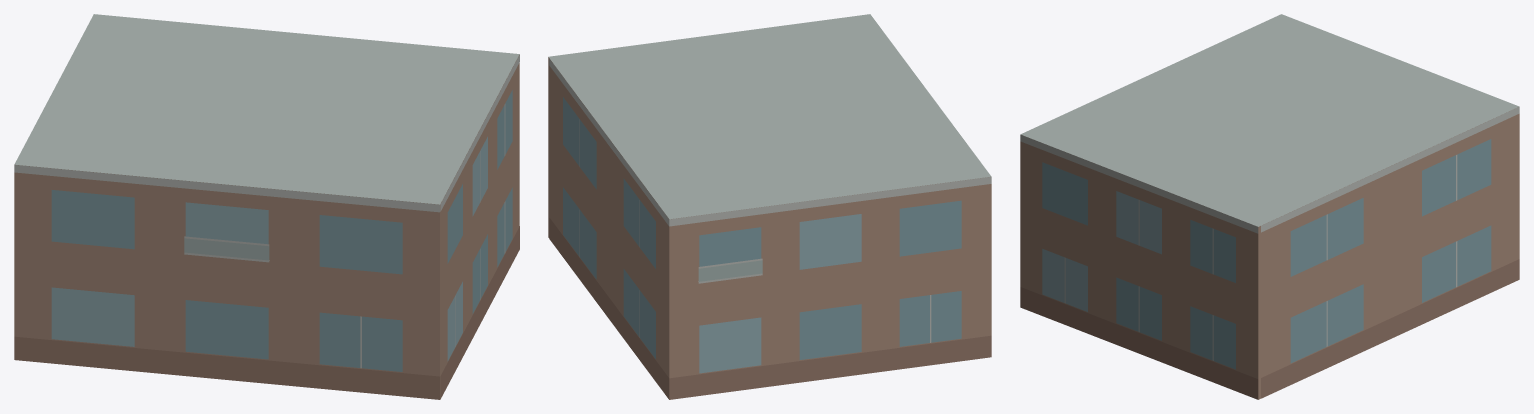
File: survey-upis-32739747.glb
3 views of the same model, side by side, from view 1: azimuth 30°, elevation 25°; view 2: azimuth 150°, elevation 25°; view 3: azimuth 270°, elevation 25° (orthographic). The views are drawn at different scales.
Visible parts, largest first — view 1: survey-upis-32739747.tmp; view 2: survey-upis-32739747.tmp; view 3: survey-upis-32739747.tmp.
Boxes of the visible parts, <box> form: survey-upis-32739747.tmp: <box>14,14,519,399</box>; survey-upis-32739747.tmp: <box>548,14,991,399</box>; survey-upis-32739747.tmp: <box>1020,14,1519,399</box>.
Size of the model in its own units: 16.11 by 6.1 by 15.97.
